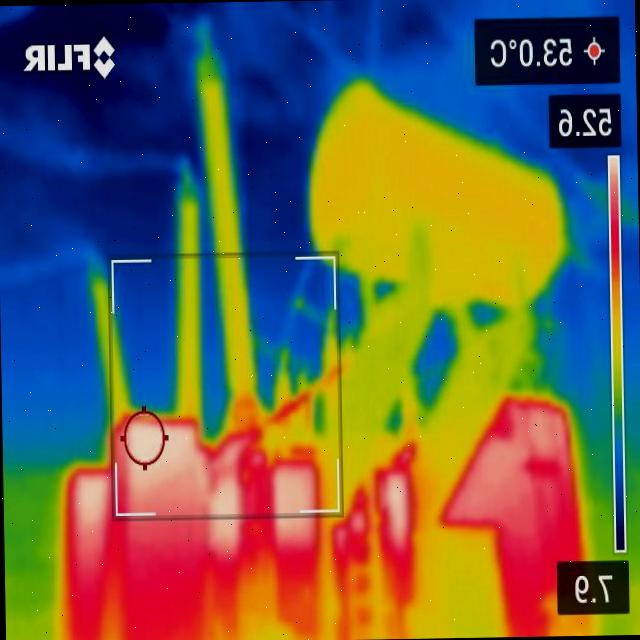loose_joint_red: (197, 35, 268, 435)
loose_joint_yellow: (176, 258, 203, 419), (177, 187, 199, 251)
point_overload_red: (265, 364, 335, 428)
